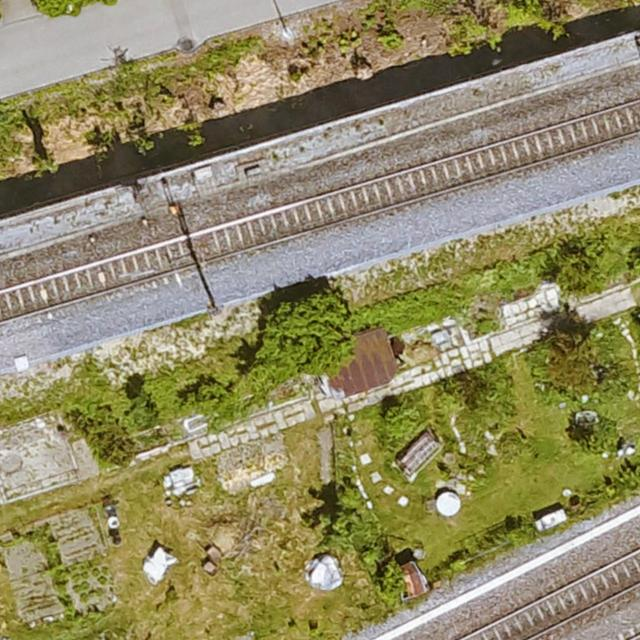tree: (262, 289, 357, 372), (529, 325, 612, 401), (324, 487, 387, 558), (553, 247, 604, 297), (11, 0, 132, 20), (368, 561, 411, 605), (576, 420, 619, 455)
